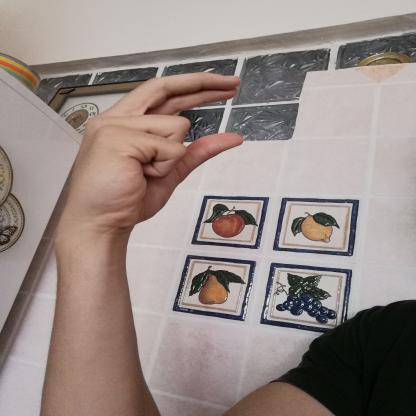DHELL: (49, 64, 255, 239)
